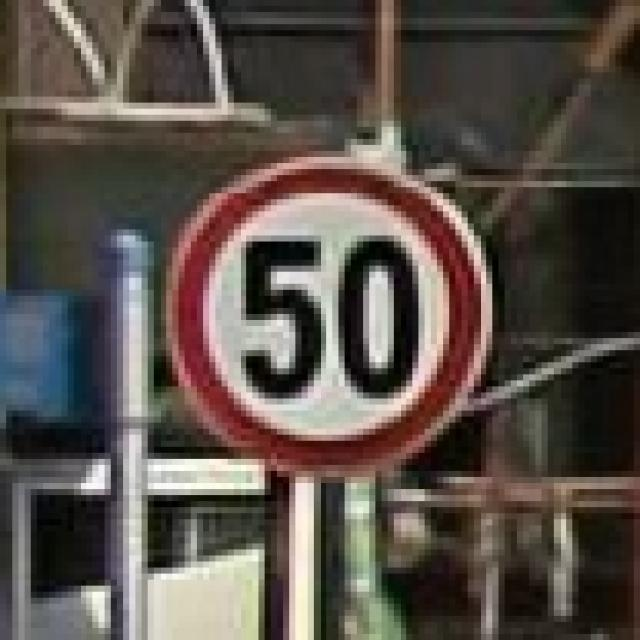Speed Limit -50-: (236, 229, 424, 403)
